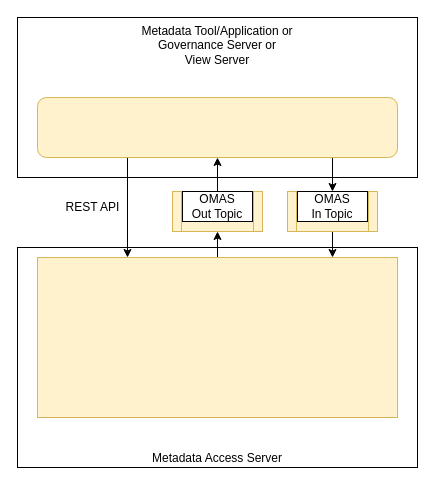
Image size: 435x485. Some labels were removed from this diagram. The shapes that lost their labels are listed below. From the top down, each one's centre as x and y in pixels, then its label:
At [217,127]: "OMAS Java Client".
At [217,337]: "Open Metadata Access Service (OMAS) Server Side".
